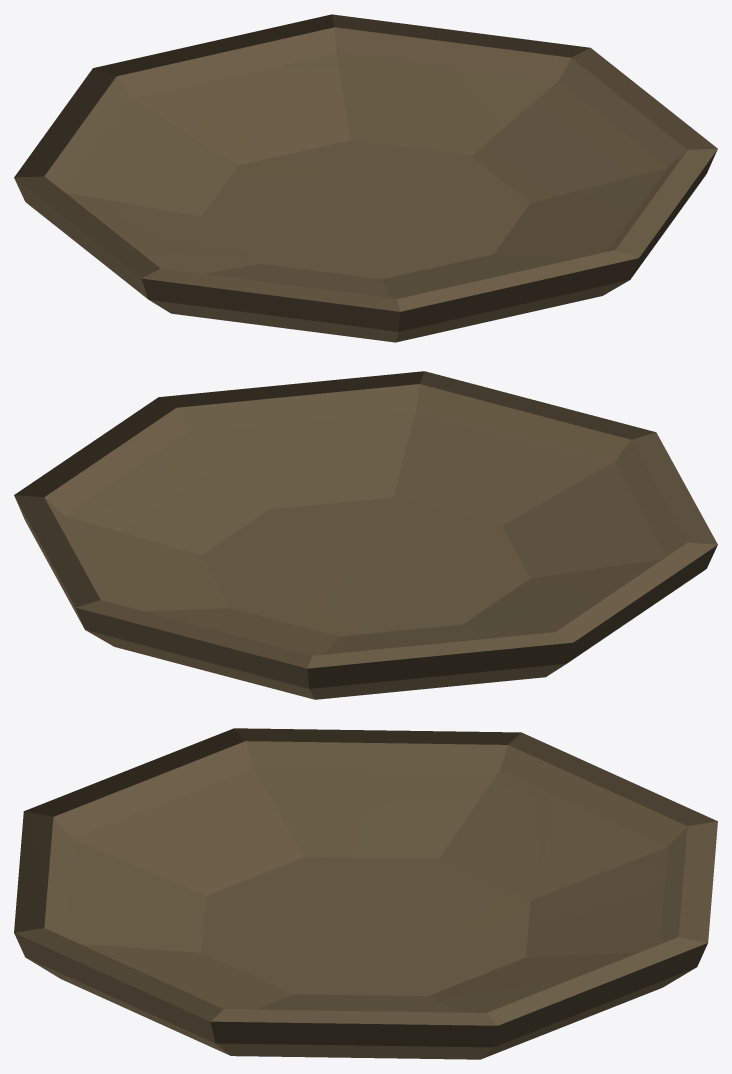
The model's file is samurai_SM_Prop_Plate_04.gltf.
3 renders of one model, top to bottom at view 1: azimuth 30°, elevation 25°; view 2: azimuth 150°, elevation 25°; view 3: azimuth 270°, elevation 25°, orthographic. The views are drawn at different scales.
Visible parts, largest first — view 1: SM_Prop_Plate_04; view 2: SM_Prop_Plate_04; view 3: SM_Prop_Plate_04.
Boxes of the visible parts, x1,y1,x2,y2 form: SM_Prop_Plate_04: (14, 14, 717, 342); SM_Prop_Plate_04: (14, 371, 717, 699); SM_Prop_Plate_04: (14, 728, 717, 1059).
Size of the model in its own units: 0.3951 by 0.0537 by 0.3951.
1 material, 1 textured.
